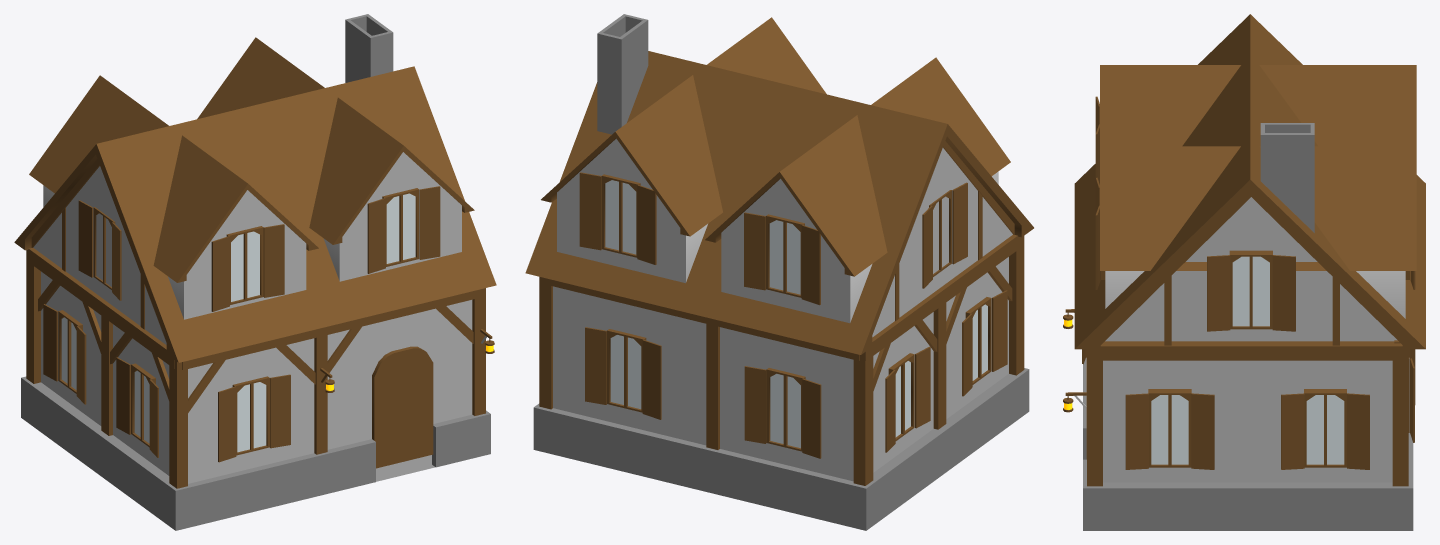
Rendered from uploads_files_722535_house4.fbx.
3 renders of one model, left to right at view 1: azimuth 30°, elevation 25°; view 2: azimuth 150°, elevation 25°; view 3: azimuth 270°, elevation 25°, orthographic. The views are drawn at different scales.
Visible parts, largest first — view 1: Null_2; view 2: Null_2; view 3: Null_2.
Part boxes in pixels (bbox=[...]): Null_2: bbox=[14, 14, 496, 530]; Null_2: bbox=[525, 14, 1033, 530]; Null_2: bbox=[1063, 14, 1425, 530].
Bounding box in the file's own units: 91.47 × 101 × 84.42.
